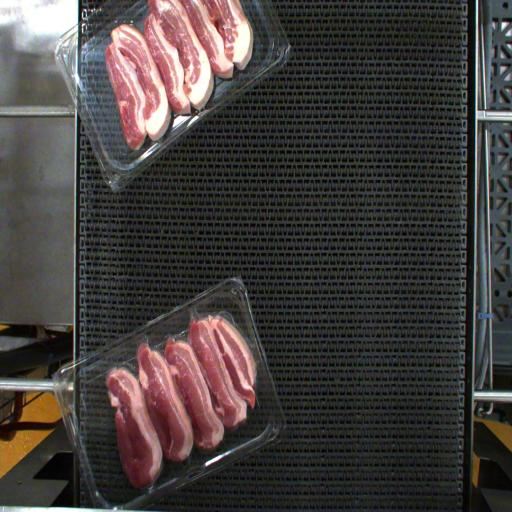packaging-error: (184, 294, 208, 324)
unsealed: (114, 296, 267, 426)
